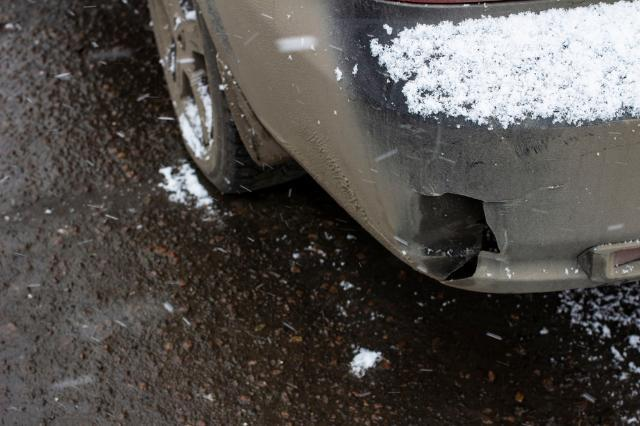crack: (411, 188, 506, 286)
